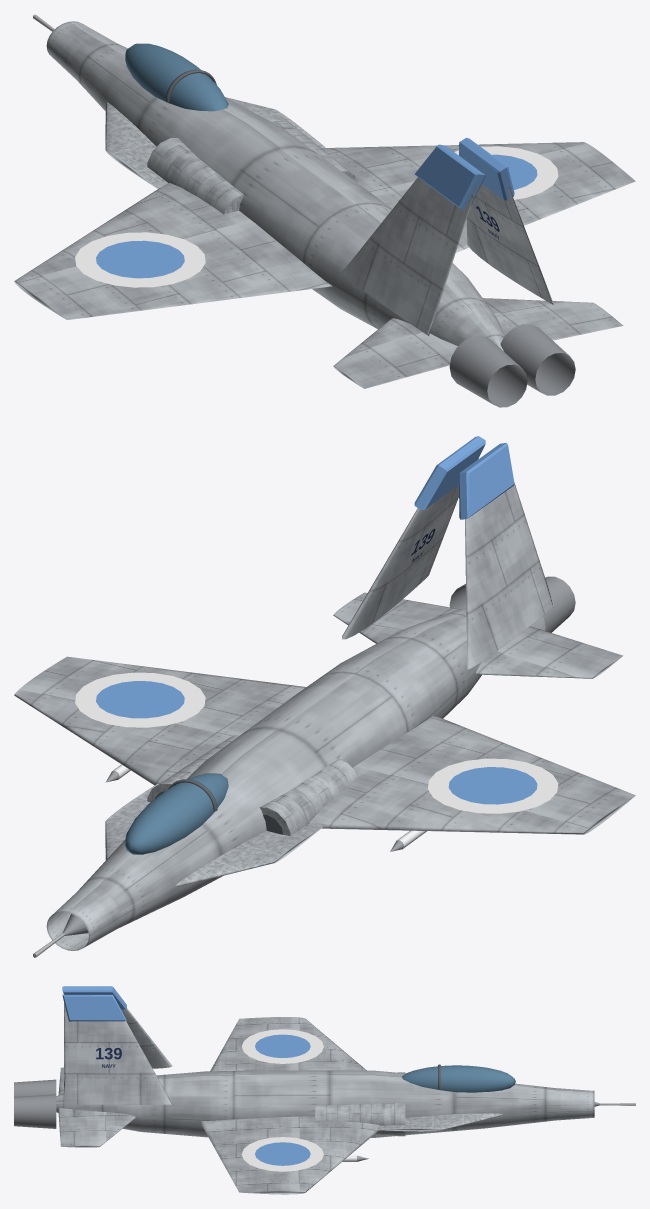
3 views of the same model, one above another, from view 1: azimuth 30°, elevation 25°; view 2: azimuth 150°, elevation 25°; view 3: azimuth 270°, elevation 25° (orthographic). The views are drawn at different scales.
Parts seen in each view (by area): view 1: detail (×6), part (×6); view 2: detail (×6), part (×6); view 3: detail (×5), part (×6).
Boxes of the visible parts, left/top/right/bottom form: detail (×6): left=14, top=21, right=635, bottom=388; part (×6): left=75, top=43, right=575, bottom=407; detail (×6): left=14, top=482, right=635, bottom=950; part (×6): left=75, top=436, right=575, bottom=854; detail (×5): left=56, top=1002, right=594, bottom=1194; part (×6): left=14, top=986, right=515, bottom=1171.
Size of the model in its own units: 13.6 by 5.22 by 20.57.
15 materials, 3 textured.
